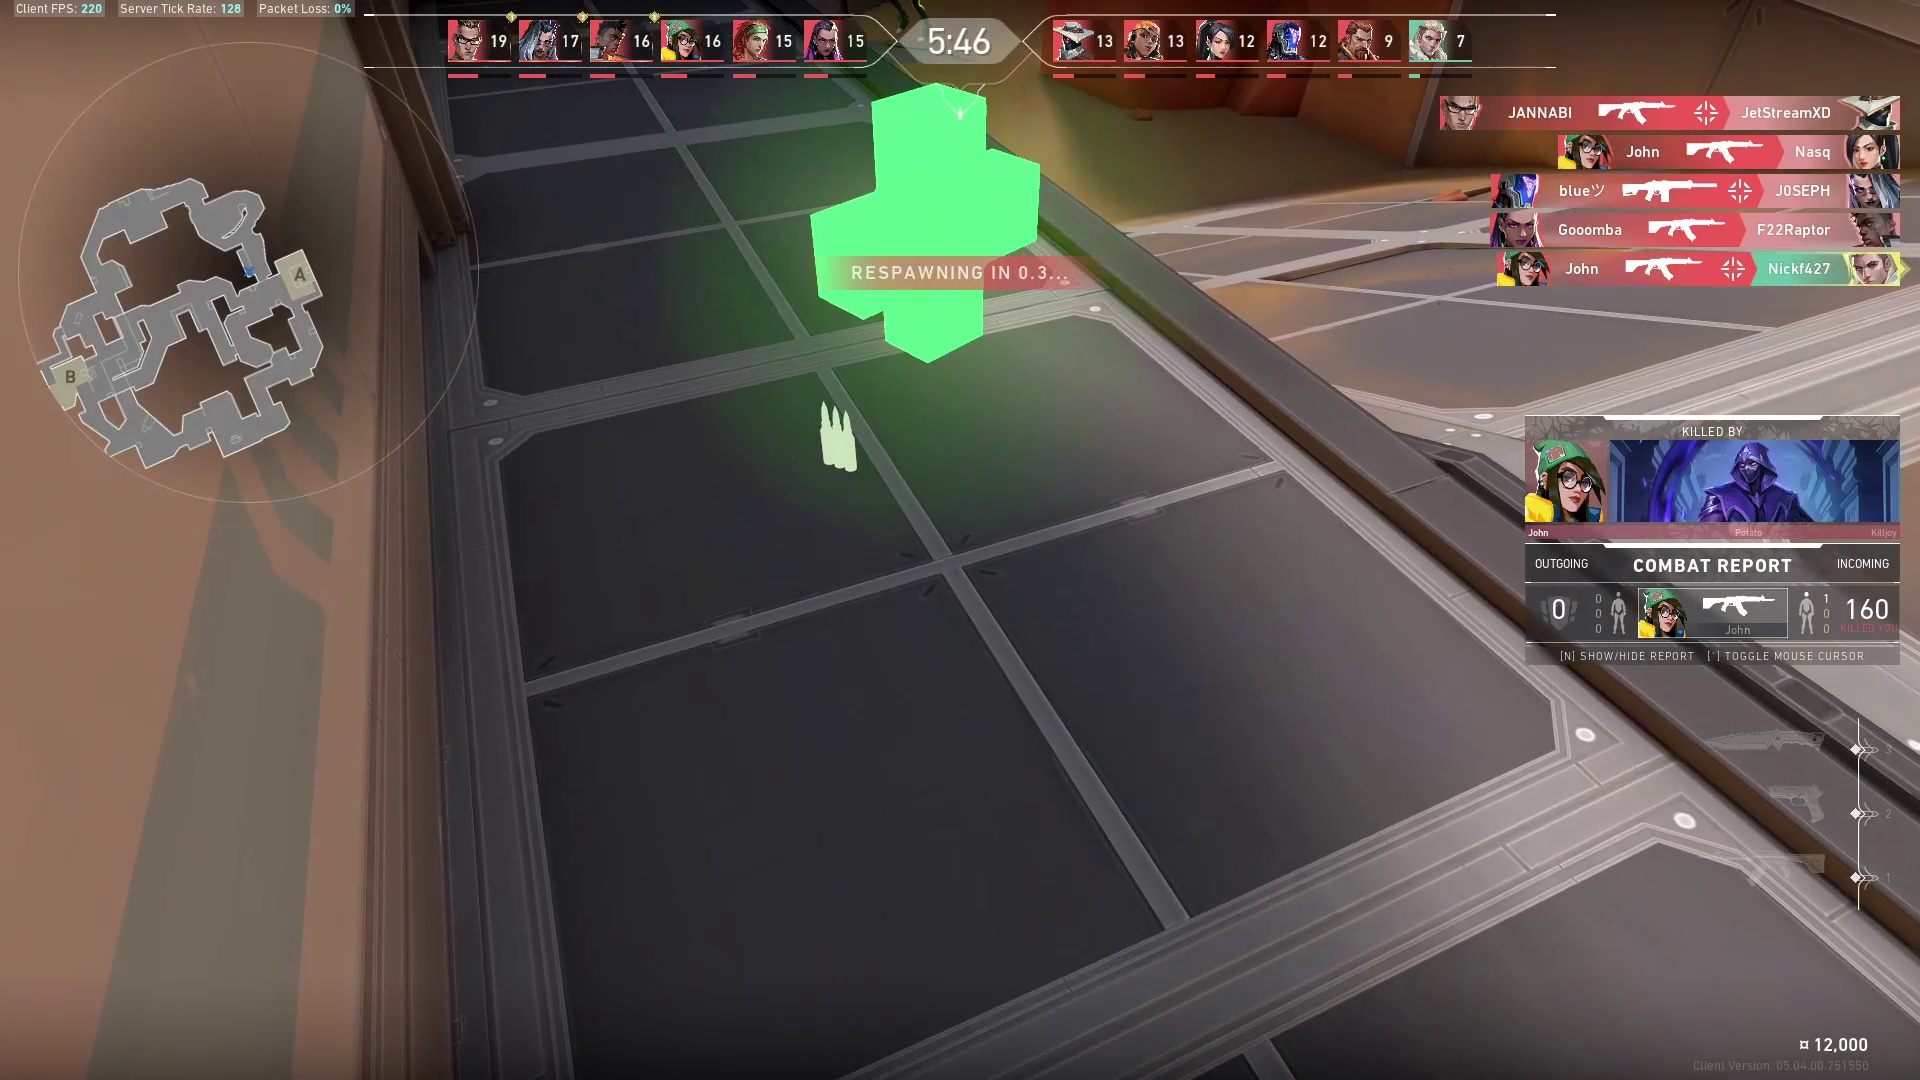enemy_gen: (890, 1, 935, 41)
